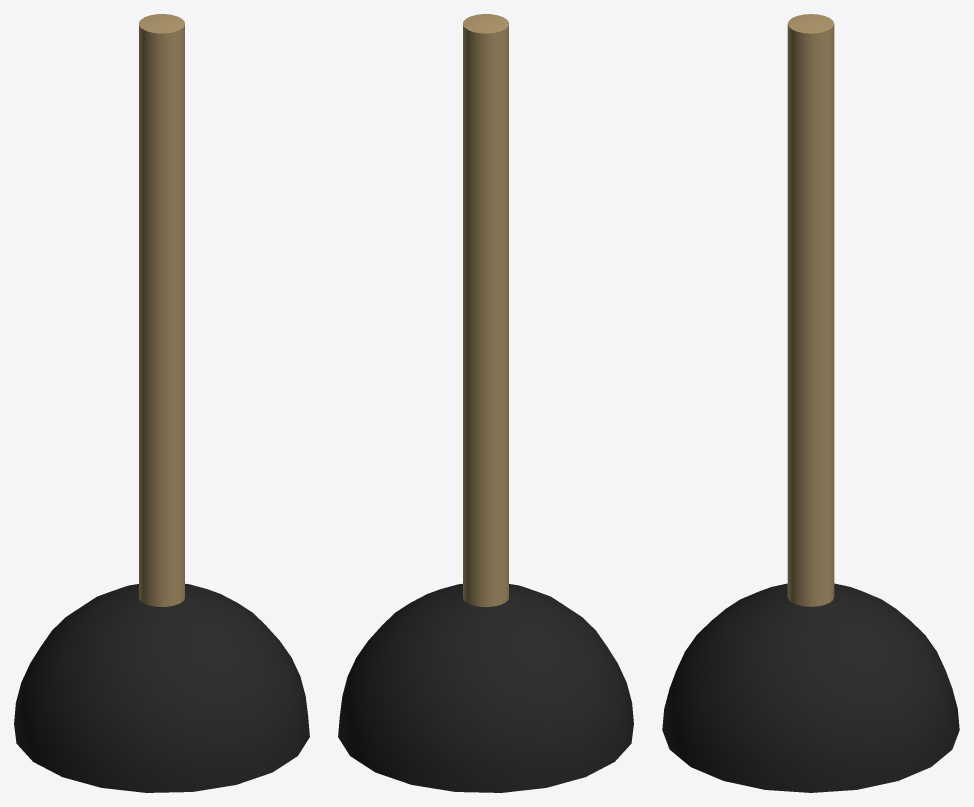
File: Plunger.fbx
3 views of the same model, side by side, from view 1: azimuth 30°, elevation 25°; view 2: azimuth 150°, elevation 25°; view 3: azimuth 270°, elevation 25° (orthographic).
Visible parts, largest first — view 1: pSphere1; view 2: pSphere1; view 3: pSphere1.
Boxes of the visible parts, left/top/right/bottom form: pSphere1: left=14, top=14, right=309, bottom=792; pSphere1: left=338, top=14, right=633, bottom=792; pSphere1: left=662, top=14, right=959, bottom=792.
Size of the model in its own units: 2 by 5.25 by 2.
